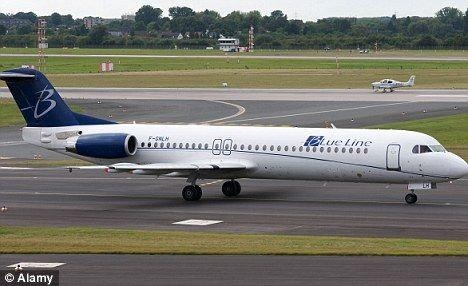airplane: (6, 57, 468, 207), (369, 74, 420, 91)
